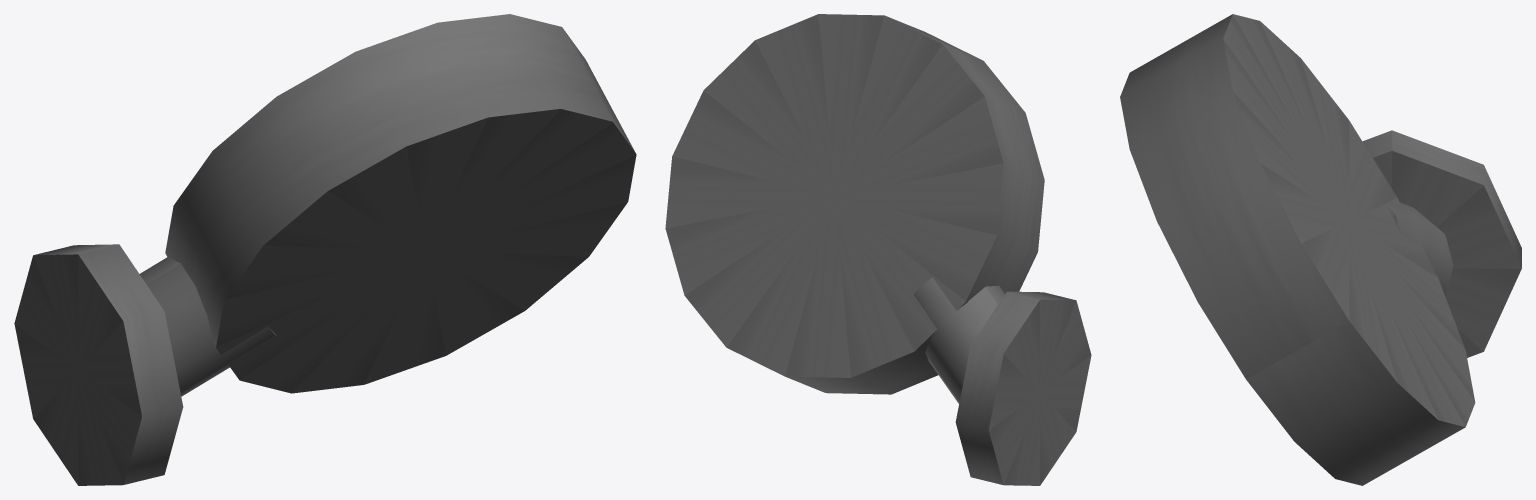
File: mastarmcurve_6x2_c0_west.obj
3 renders of one model, left to right at view 1: azimuth 30°, elevation 25°; view 2: azimuth 150°, elevation 25°; view 3: azimuth 270°, elevation 25°, orthographic. The views are drawn at different scales.
Parts seen in each view (by area): view 1: mastarm_6x2_c0_west; view 2: mastarm_6x2_c0_west; view 3: mastarm_6x2_c0_west.
Part boxes in pixels (x1,y1,x2,y2): mastarm_6x2_c0_west: [14, 14, 636, 485]; mastarm_6x2_c0_west: [665, 14, 1091, 485]; mastarm_6x2_c0_west: [1120, 14, 1521, 485].
Bounding box in the file's own units: 0.8644 × 0.7887 × 0.6185.
